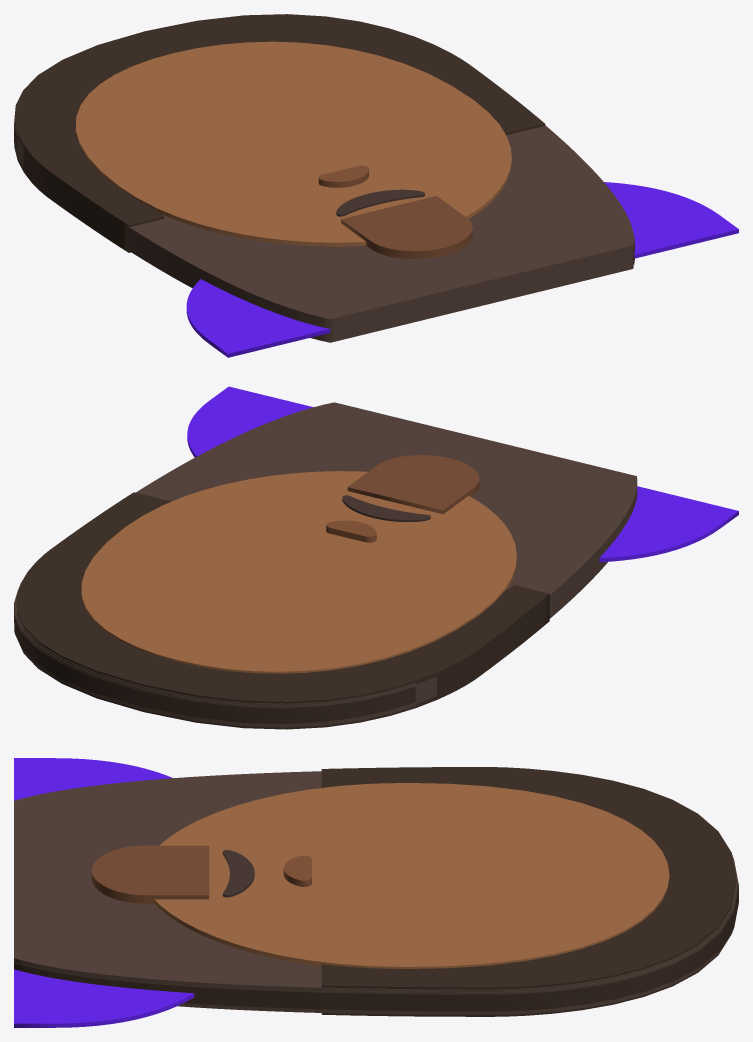
The model's file is emoji_u1f64d_1f3fe_200d_2640.glb.
The picture shows the model from 3 angles, top to bottom: view 1: azimuth 30°, elevation 25°; view 2: azimuth 150°, elevation 25°; view 3: azimuth 270°, elevation 25°; orthographic projection. The views are drawn at different scales.
Visible parts, largest first — view 1: emoji_u1f64d_1f3fe_200d_2640; view 2: emoji_u1f64d_1f3fe_200d_2640; view 3: emoji_u1f64d_1f3fe_200d_2640.
Part boxes in pixels (x1,y1,x2,y2): emoji_u1f64d_1f3fe_200d_2640: [14, 14, 738, 357]; emoji_u1f64d_1f3fe_200d_2640: [14, 386, 738, 729]; emoji_u1f64d_1f3fe_200d_2640: [14, 758, 738, 1027].
Bounding box in the file's own units: 0.0271 × 0.0022 × 0.0313.
